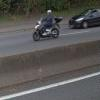Motorcycle: (27, 12, 64, 44)
